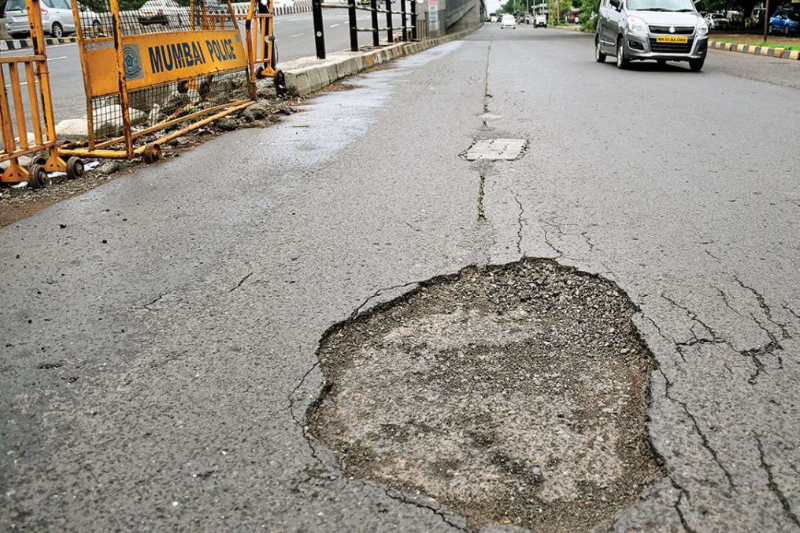pothole: (301, 228, 680, 526)
